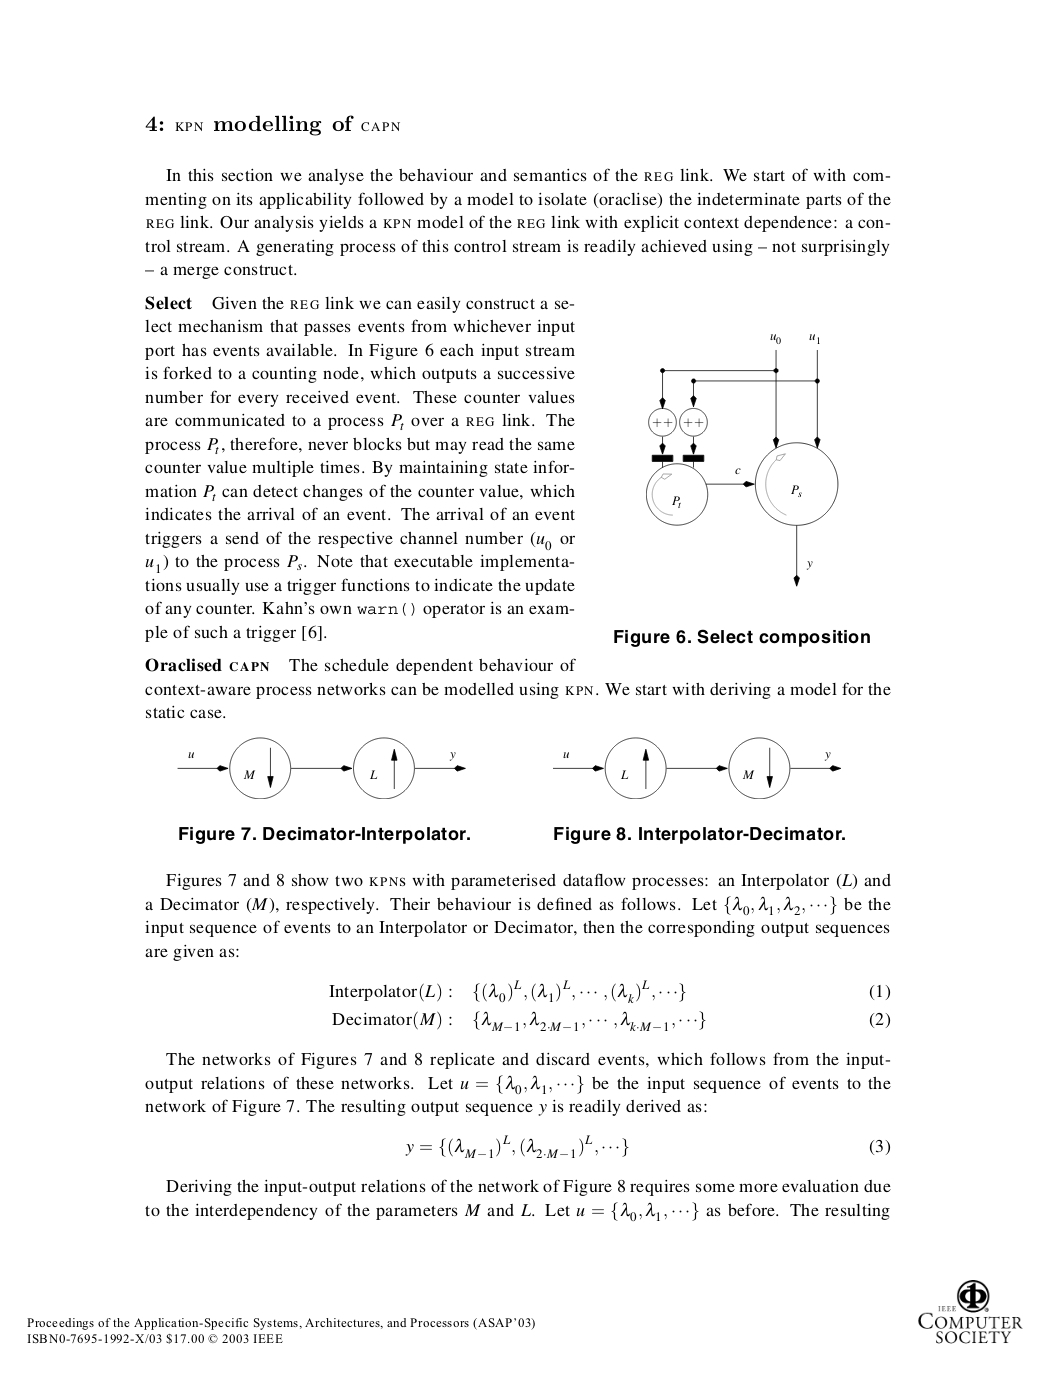figure: (646, 334, 838, 586), (177, 737, 465, 798), (553, 737, 840, 798), (918, 1281, 1022, 1343)
formula: (329, 978, 890, 1003), (332, 1010, 890, 1031), (405, 1135, 890, 1158)
